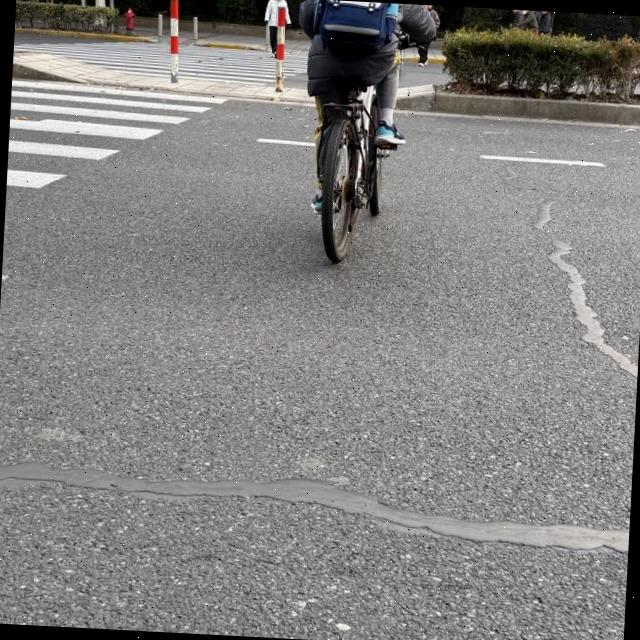curb: (398, 90, 640, 125), (15, 28, 153, 42), (12, 64, 71, 81), (196, 41, 263, 51), (430, 57, 446, 64), (403, 58, 418, 65)
